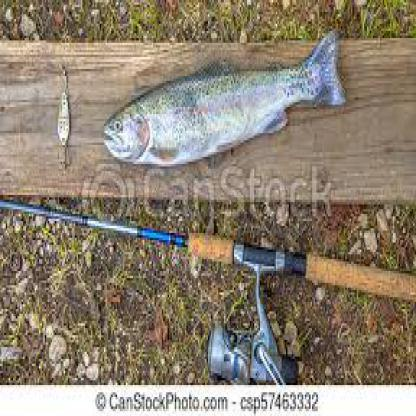fish: (101, 19, 344, 168)
